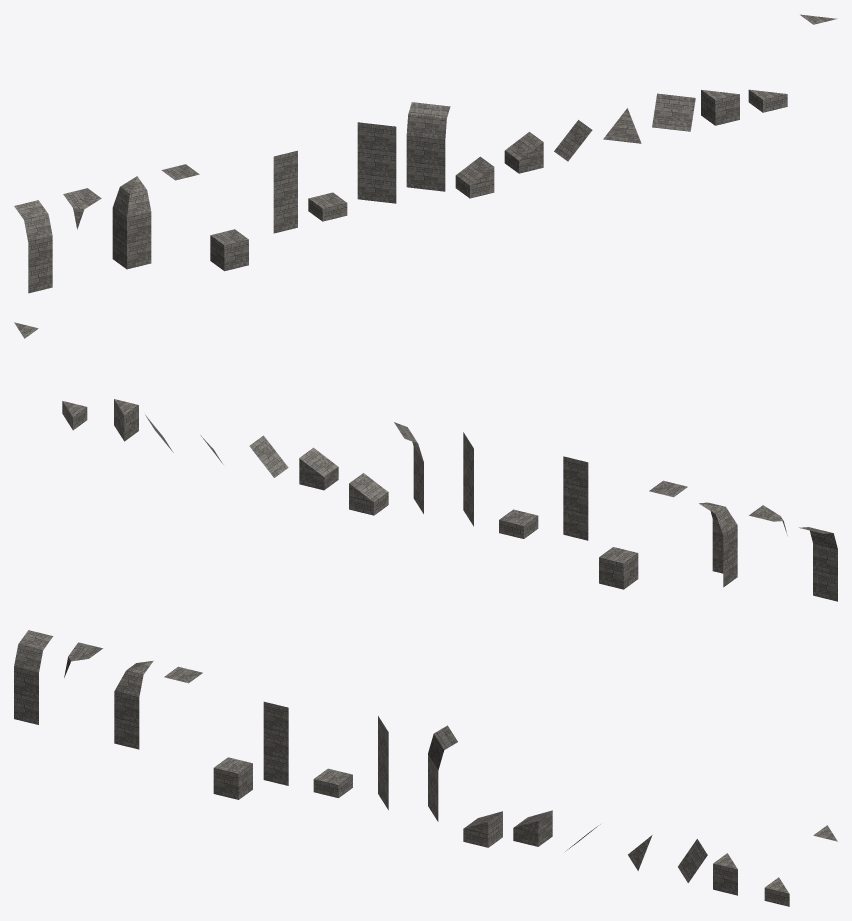
File: dungeontiles.glb
3 renders of one model, top to bottom at view 1: azimuth 30°, elevation 25°; view 2: azimuth 150°, elevation 25°; view 3: azimuth 330°, elevation 25°, orthographic.
Visible parts, largest first — view 1: wall-diagonal-col, corner-in-col, wall-diagonal-tall-col, wall-col, wall-tall-col, cielieng-diagonal-ramp, floor-col, ramp-bottom-col, ramp-top-col, floor-diagonal-col, floor-half-col, ceiling-ramp (+3 smaller); view 2: wall-tall-col, corner-in-col, wall-col, floor-col, ramp-top-col, ramp-bottom-col, floor-half-col, wall-diagonal-tall-col, floor-diagonal-col, wall-diagonal-col, ceiling-ramp, floor-diagonal-half-col; view 3: wall-col, corner-in-col, wall-tall-col, floor-col, wall-diagonal-col, ramp-bottom-col, ramp-top-col, floor-half-col, wall-diagonal-tall-col, floor-diagonal-col, cielieng-diagonal-ramp, floor-diagonal-half-col.
Part boxes in pixels (x1=…): wall-diagonal-col: x1=406, y1=102, x2=450, y2=191; corner-in-col: x1=112, y1=176, x2=151, y2=269; wall-diagonal-tall-col: x1=357, y1=122, x2=396, y2=203; wall-col: x1=14, y1=200, x2=52, y2=293; wall-tall-col: x1=273, y1=150, x2=297, y2=233; cielieng-diagonal-ramp: x1=652, y1=93, x2=695, y2=131; floor-col: x1=210, y1=229, x2=248, y2=271; ramp-bottom-col: x1=455, y1=156, x2=494, y2=198; ramp-top-col: x1=504, y1=132, x2=543, y2=173; floor-diagonal-col: x1=701, y1=90, x2=739, y2=125; floor-half-col: x1=308, y1=192, x2=347, y2=221; ceiling-ramp: x1=554, y1=120, x2=592, y2=161; wall-tall-col: x1=563, y1=456, x2=588, y2=540; corner-in-col: x1=699, y1=502, x2=737, y2=587; wall-col: x1=799, y1=527, x2=837, y2=601; floor-col: x1=599, y1=547, x2=638, y2=589; ramp-top-col: x1=299, y1=447, x2=338, y2=490; ramp-bottom-col: x1=349, y1=473, x2=388, y2=515; floor-half-col: x1=499, y1=509, x2=538, y2=538; wall-diagonal-tall-col: x1=463, y1=432, x2=473, y2=526; floor-diagonal-col: x1=114, y1=399, x2=138, y2=441; wall-diagonal-col: x1=394, y1=422, x2=423, y2=513; ceiling-ramp: x1=249, y1=435, x2=288, y2=477; floor-diagonal-half-col: x1=62, y1=401, x2=87, y2=430; wall-col: x1=14, y1=630, x2=53, y2=724; corner-in-col: x1=114, y1=660, x2=153, y2=749; wall-tall-col: x1=263, y1=701, x2=288, y2=785; floor-col: x1=213, y1=757, x2=252, y2=799; wall-diagonal-col: x1=428, y1=725, x2=457, y2=821; ramp-bottom-col: x1=463, y1=811, x2=502, y2=847; ramp-top-col: x1=513, y1=810, x2=552, y2=846; floor-half-col: x1=313, y1=768, x2=352, y2=797; wall-diagonal-tall-col: x1=378, y1=716, x2=388, y2=809; floor-diagonal-col: x1=713, y1=853, x2=737, y2=895; cielieng-diagonal-ramp: x1=678, y1=839, x2=707, y2=882; floor-diagonal-half-col: x1=764, y1=877, x2=789, y2=906.
Bounding box in the file's own units: 33 × 4 × 1.5.
Materials: 1 (1 with a texture image).
